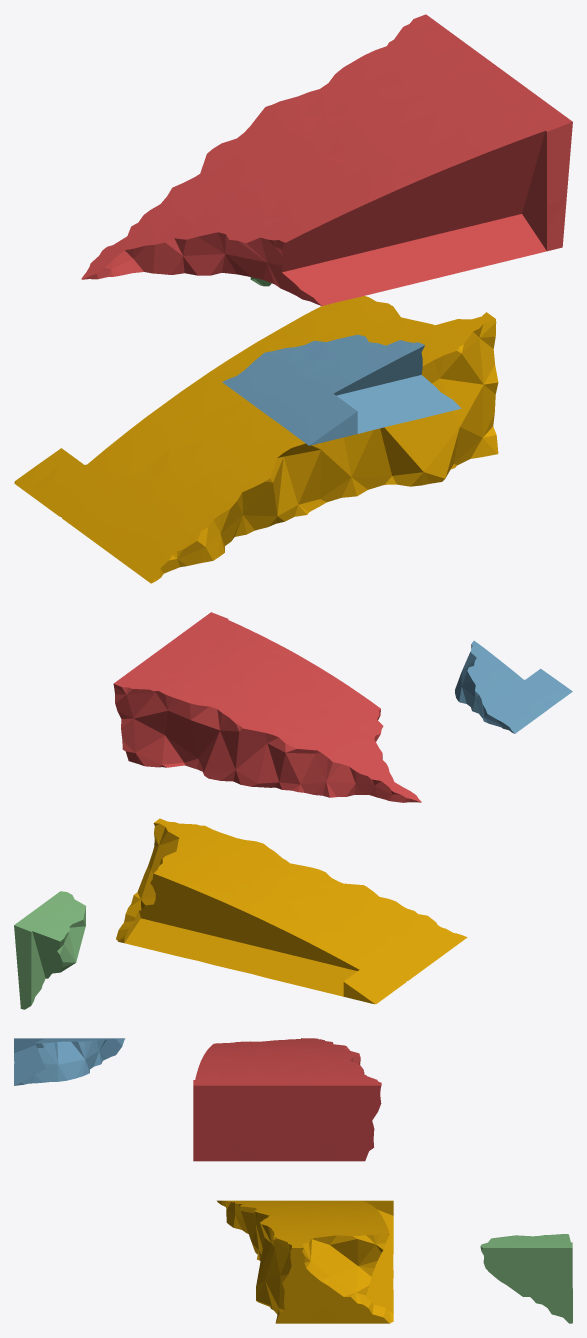
Rendered from fractured_39_4pcs_transformed.glb.
The picture shows the model from 3 angles, top to bottom: view 1: azimuth 30°, elevation 25°; view 2: azimuth 150°, elevation 25°; view 3: azimuth 270°, elevation 25°; orthographic projection. The views are drawn at different scales.
Visible parts, largest first — view 1: piece_1.obj, piece_0.obj, piece_2.obj; view 2: piece_0.obj, piece_1.obj, piece_2.obj, piece_3.obj; view 3: piece_1.obj, piece_0.obj, piece_3.obj, piece_2.obj.
Boxes of the visible parts, x1,y1,x2,y2 form: piece_1.obj: (81,14,572,305); piece_0.obj: (14,296,498,583); piece_2.obj: (222,334,461,445); piece_0.obj: (116,818,467,1004); piece_1.obj: (113,612,421,802); piece_2.obj: (455,640,572,733); piece_3.obj: (14,891,86,1009); piece_1.obj: (193,1038,381,1161); piece_0.obj: (217,1200,393,1323); piece_3.obj: (480,1234,572,1323); piece_2.obj: (14,1038,125,1085).
Bounding box in the file's own units: 1 × 0.8915 × 1.87.
